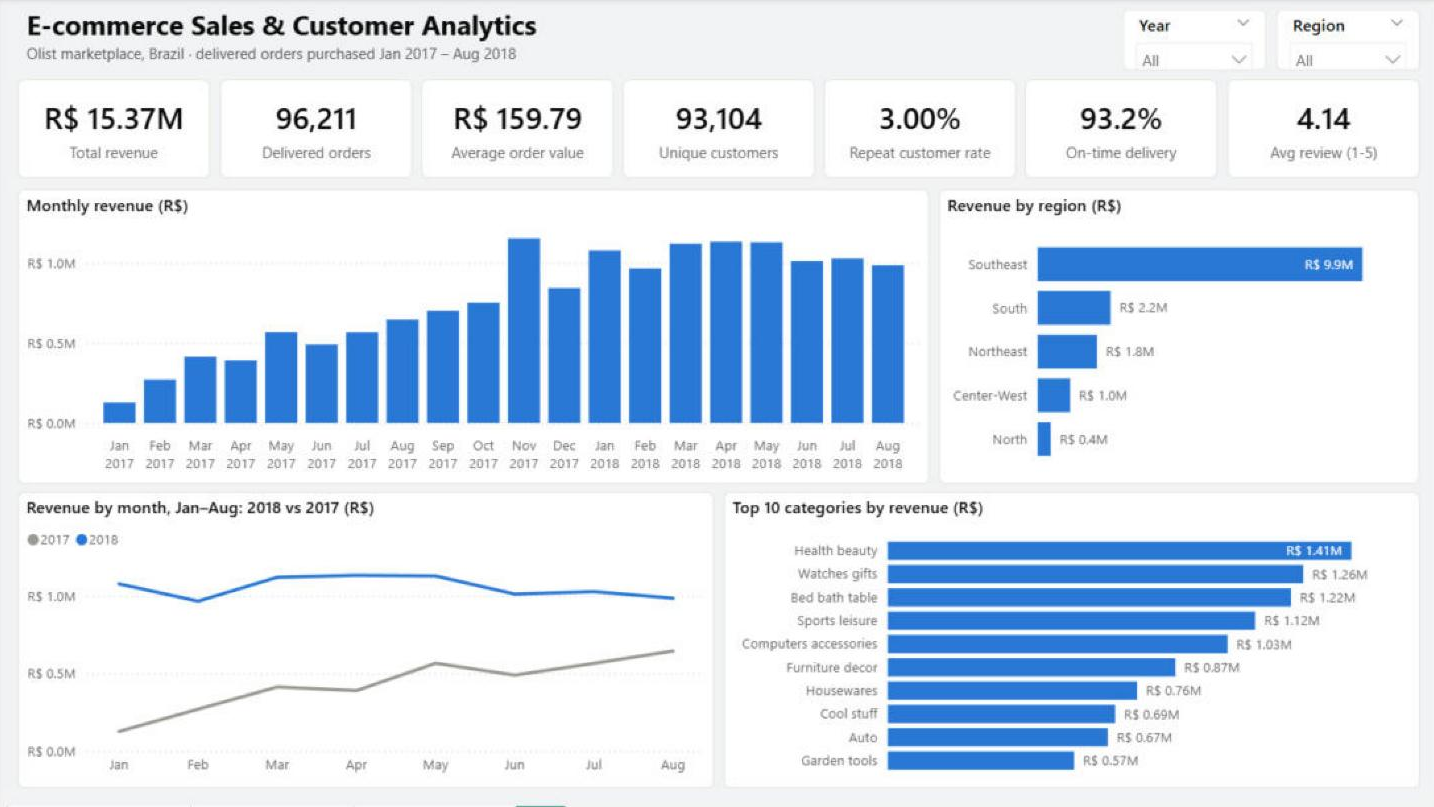

Layout of this report page (visuals, bound fields, positions):
{"tool":"powerbi","page":{"name":"Executive Overview","canvas":[1280,720],"ordinal":0},"visuals":[{"type":"textbox","box":[16,8,976,56],"z":1000},{"type":"slicer","fields":{"Values":["Date.Year"]},"box":[1000,10,128,54],"z":2000},{"type":"slicer","fields":{"Values":["dim_state.region"]},"box":[1136,10,128,54],"z":3000},{"type":"card","fields":{"Values":["_Measures.Total Revenue"]},"box":[16,72,171.4,88],"z":4000},{"type":"card","fields":{"Values":["_Measures.Delivered Orders"]},"box":[195.4,72,171.4,88],"z":5000},{"type":"card","fields":{"Values":["_Measures.Average Order Value"]},"box":[374.9,72,171.4,88],"z":6000},{"type":"card","fields":{"Values":["_Measures.Unique Customers"]},"box":[554.3,72,171.4,88],"z":7000},{"type":"card","fields":{"Values":["_Measures.Repeat Customer Rate"]},"box":[733.7,72,171.4,88],"z":8000},{"type":"card","fields":{"Values":["_Measures.On-time Delivery Rate"]},"box":[913.1,72,171.4,88],"z":9000},{"type":"card","fields":{"Values":["_Measures.Avg Review Score"]},"box":[1092.6,72,171.4,88],"z":10000},{"type":"clusteredColumnChart","title":"Monthly revenue (R$)","fields":{"Category":["Date.Month"],"Y":["_Measures.Total Revenue"]},"box":[16,170,812,262],"z":11000},{"type":"clusteredBarChart","title":"Revenue by region (R$)","fields":{"Category":["dim_state.region"],"Y":["_Measures.Total Revenue"]},"box":[836,170,428,262],"z":12000},{"type":"lineChart","title":"Revenue by month, Jan–Aug: 2018 vs 2017 (R$)","fields":{"Category":["Date.Month Name"],"Y":["_Measures.Revenue 2017 (Jan-Aug)","_Measures.Revenue 2018 (Jan-Aug)"]},"box":[16,440,620,264],"z":13000},{"type":"clusteredBarChart","title":"Top 10 categories by revenue (R$)","fields":{"Category":["fact_order_items.category"],"Y":["_Measures.Item Revenue (Top 10)"]},"box":[644,440,620,264],"z":14000}]}

Visuals, with their boxes in screenshot pixels (x1, y1, x2, y2), scaled from the page's 1280x720 canvas onto the 1434x807 screenshot:
textbox: left=18, top=9, right=1111, bottom=72
slicer - Date.Year: left=1120, top=11, right=1264, bottom=72
slicer - dim_state.region: left=1273, top=11, right=1416, bottom=72
card - _Measures.Total Revenue: left=18, top=81, right=210, bottom=179
card - _Measures.Delivered Orders: left=219, top=81, right=411, bottom=179
card - _Measures.Average Order Value: left=420, top=81, right=612, bottom=179
card - _Measures.Unique Customers: left=621, top=81, right=813, bottom=179
card - _Measures.Repeat Customer Rate: left=822, top=81, right=1014, bottom=179
card - _Measures.On-time Delivery Rate: left=1023, top=81, right=1215, bottom=179
card - _Measures.Avg Review Score: left=1224, top=81, right=1416, bottom=179
"Monthly revenue (R$)" clusteredColumnChart: left=18, top=191, right=928, bottom=484
"Revenue by region (R$)" clusteredBarChart: left=937, top=191, right=1416, bottom=484
"Revenue by month, Jan–Aug: 2018 vs 2017 (R$)" lineChart: left=18, top=493, right=713, bottom=789
"Top 10 categories by revenue (R$)" clusteredBarChart: left=721, top=493, right=1416, bottom=789
